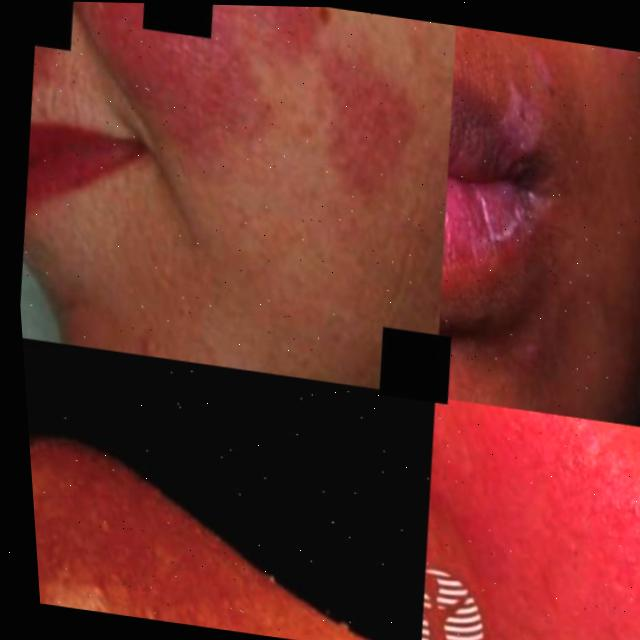lupus-detected: (23, 342, 451, 640), (13, 0, 472, 261), (410, 23, 640, 424), (402, 394, 640, 640), (17, 0, 133, 171), (487, 30, 640, 89)
